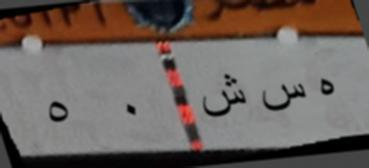0: (120, 92, 142, 126)
5: (40, 94, 74, 134)
haa: (317, 74, 340, 101)
seen: (256, 73, 310, 124)
sheen: (198, 69, 249, 126)
